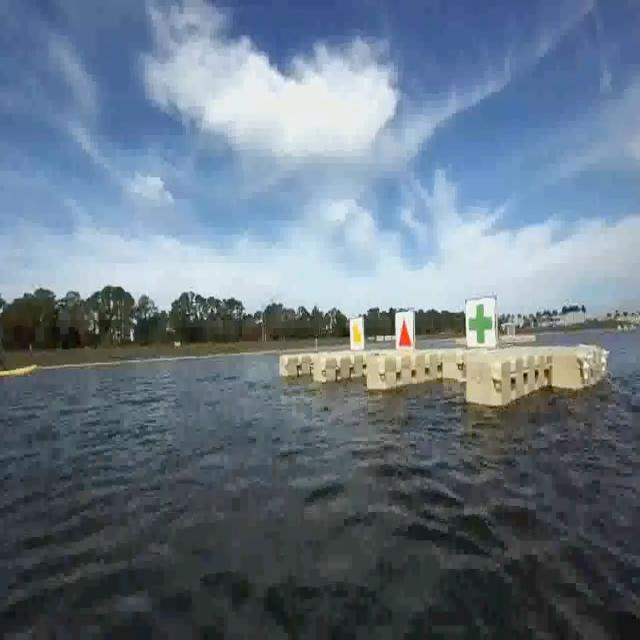blue-cross: (465, 298, 498, 346)
red-dot: (392, 311, 417, 348)
yellow-duck: (348, 317, 364, 348)
